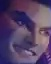kevin: (3, 2, 50, 63)
